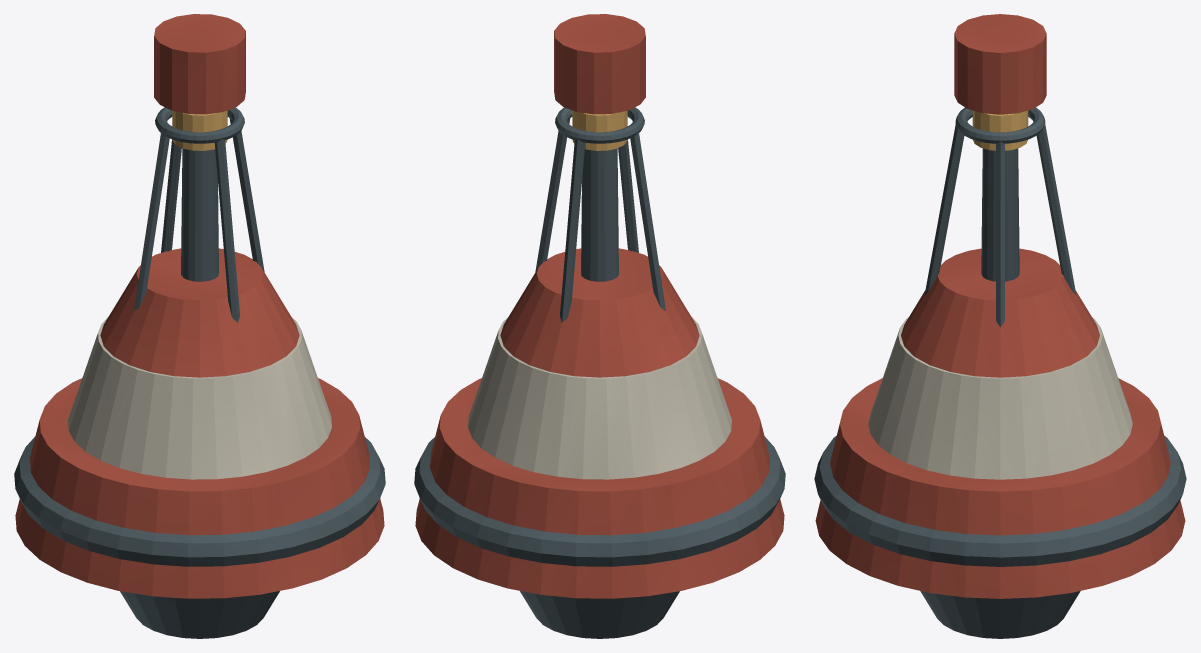
The model's file is float-can-buoy.glb.
The picture shows the model from 3 angles, left to right: view 1: azimuth 30°, elevation 25°; view 2: azimuth 150°, elevation 25°; view 3: azimuth 270°, elevation 25°; orthographic projection.
Visible parts, largest first — view 1: float-can-buoy; view 2: float-can-buoy; view 3: float-can-buoy.
Boxes of the visible parts, x1,y1,x2,y2 form: float-can-buoy: (14, 14, 385, 638); float-can-buoy: (414, 14, 785, 638); float-can-buoy: (814, 14, 1186, 638).
Size of the model in its own units: 1.53 by 2.62 by 1.53.
